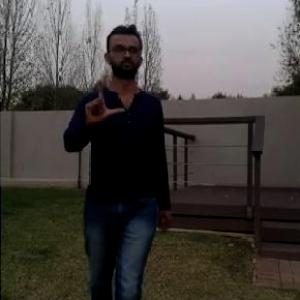land_hand: (81, 72, 125, 126)
